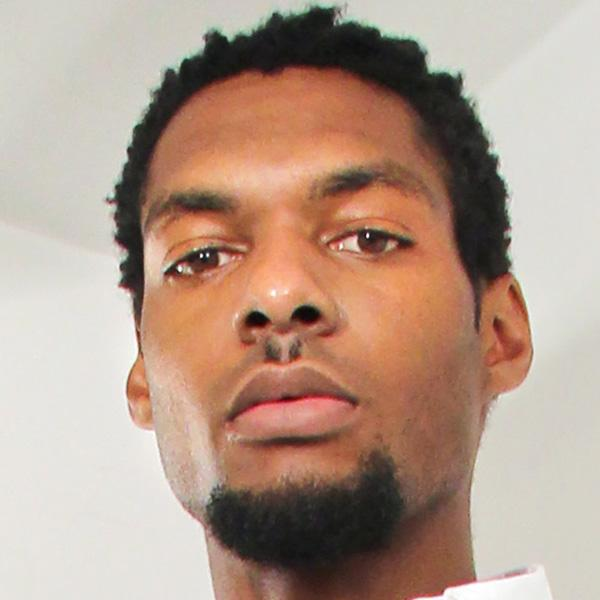Eyes: (154, 228, 255, 296), (314, 213, 421, 269)
